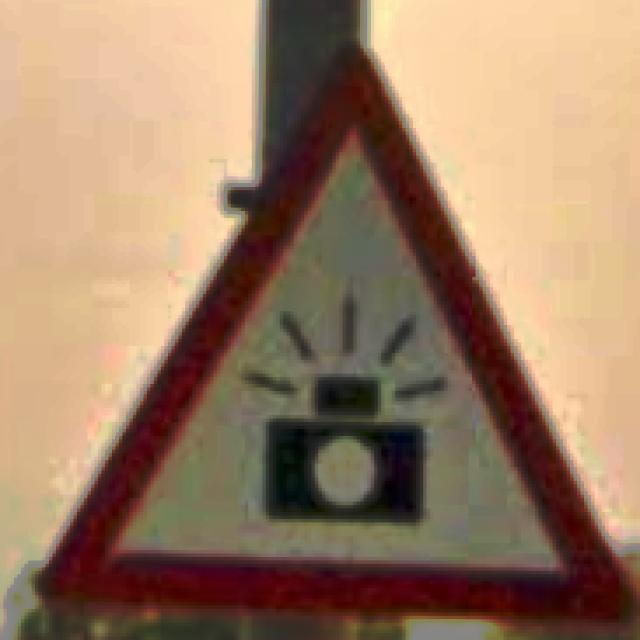speedcamera: (35, 42, 633, 626)
